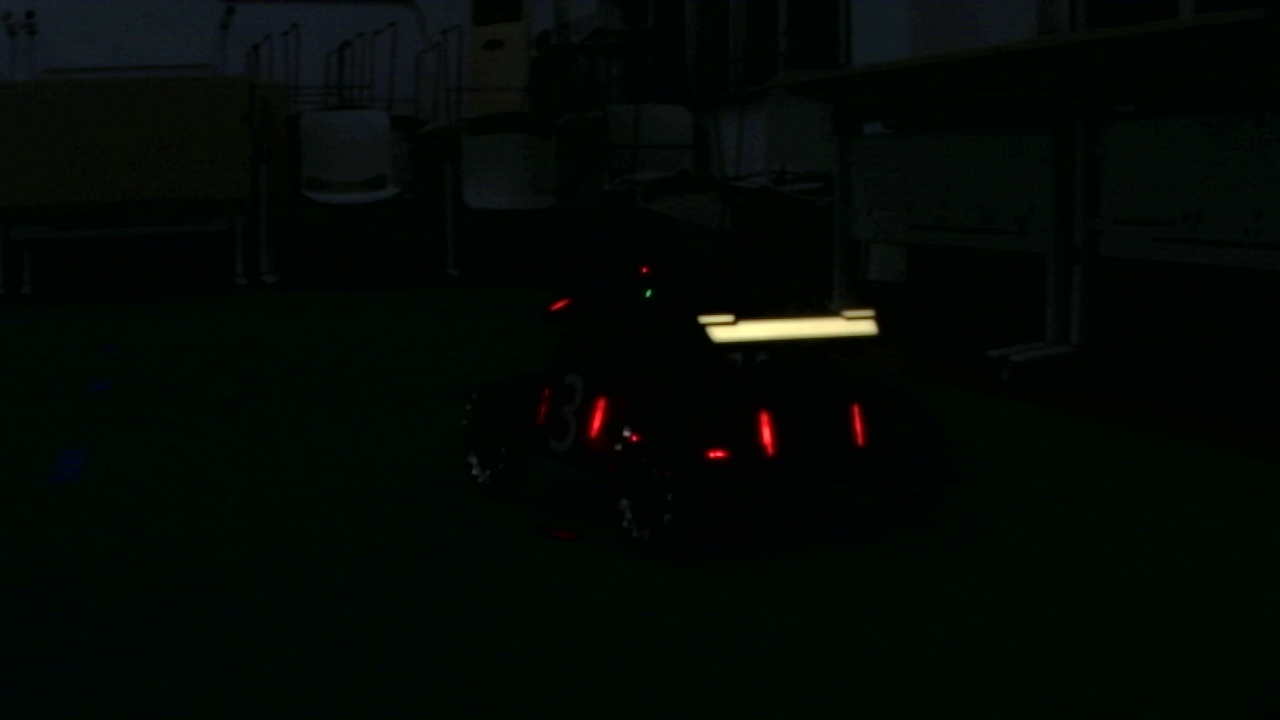lamp: (584, 392, 606, 446), (848, 398, 864, 451), (761, 405, 774, 464)
notpair1: (585, 388, 777, 465)
pair1: (759, 406, 863, 461)
